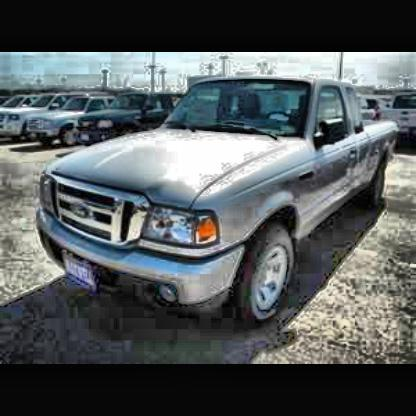Ford Ranger SuperCab 2011: (39, 81, 400, 327)
